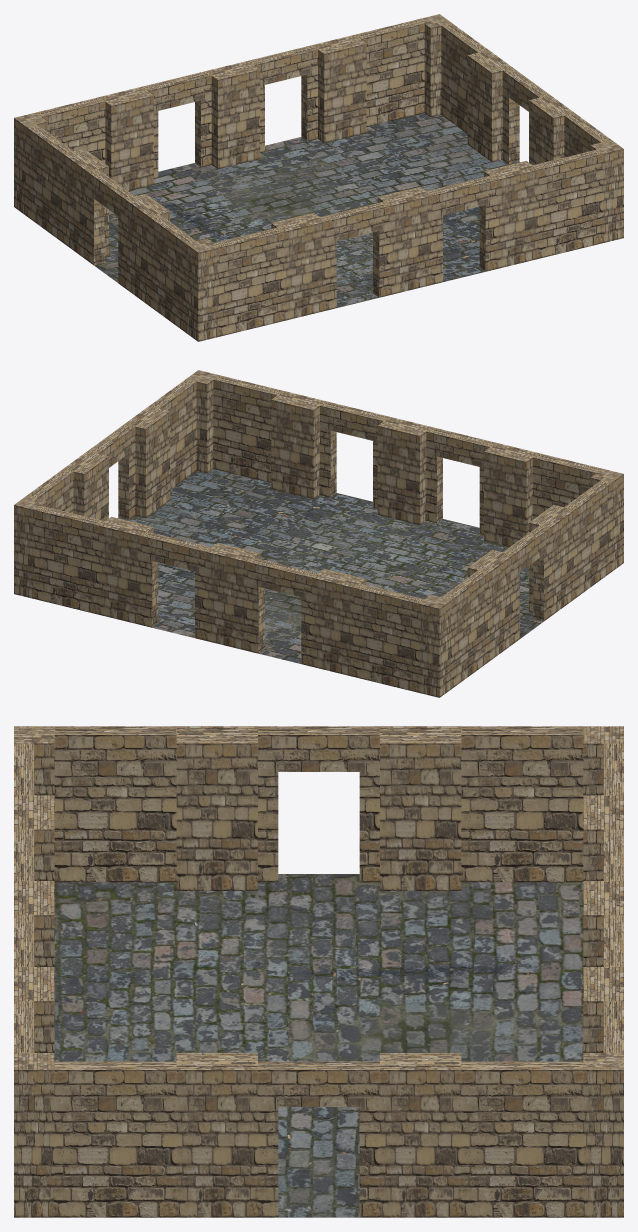
Rendered from 1_6doorConnector.fbx.
3 renders of one model, top to bottom at view 1: azimuth 30°, elevation 25°; view 2: azimuth 150°, elevation 25°; view 3: azimuth 270°, elevation 25°, orthographic. The views are drawn at different scales.
Visible parts, largest first — view 1: Cube_1, Plane; view 2: Cube_1, Plane; view 3: Cube_1, Plane.
Part boxes in pixels (x1=…): Cube_1: x1=14, y1=14, x2=623, y2=341; Plane: x1=94, y1=113, x2=519, y2=307; Cube_1: x1=14, y1=370, x2=623, y2=697; Plane: x1=118, y1=469, x2=543, y2=663; Cube_1: x1=14, y1=726, x2=623, y2=1217; Plane: x1=54, y1=874, x2=583, y2=1217.
Size of the model in its own units: 40 by 8 by 30.
Materials: 2 (2 with a texture image).
